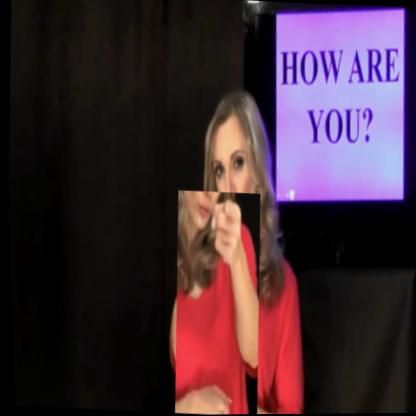HowAreYou: (165, 190, 265, 415)
